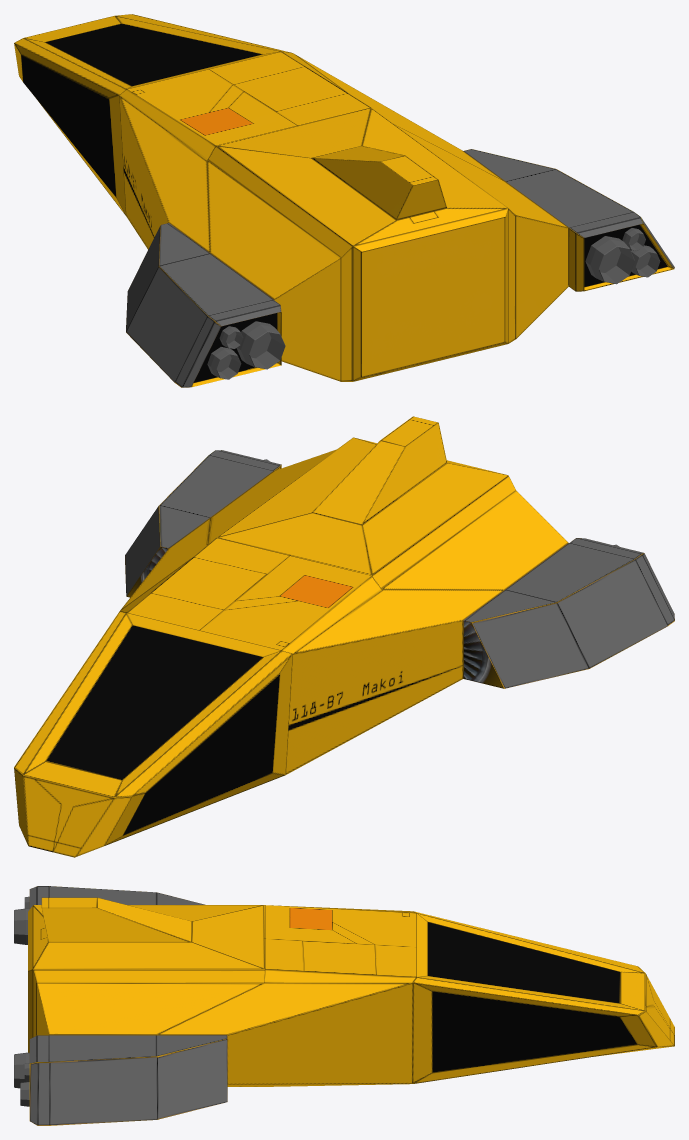
Rendered from makoi.glb.
3 views of the same model, one above another, from view 1: azimuth 30°, elevation 25°; view 2: azimuth 150°, elevation 25°; view 3: azimuth 270°, elevation 25° (orthographic). The views are drawn at different scales.
Visible parts, largest first — view 1: Spaceship, Thruster.005, Thruster, Thruster.001, Thruster.004; view 2: Spaceship; view 3: Spaceship, Thruster, Thruster.005.
Boxes of the visible parts, x1=… form: Spaceship: x1=14, y1=14, x2=674, y2=387; Thruster.005: x1=585, y1=236, x2=634, y2=284; Thruster: x1=236, y1=321, x2=285, y2=369; Thruster.001: x1=207, y1=347, x2=241, y2=379; Thruster.004: x1=631, y1=245, x2=660, y2=277; Spaceship: x1=14, y1=416, x2=674, y2=857; Spaceship: x1=28, y1=886, x2=674, y2=1125; Thruster: x1=14, y1=908, x2=29, y2=944; Thruster.005: x1=14, y1=1052, x2=29, y2=1088.
Size of the model in its own units: 0.6885 by 0.2354 by 0.9442.
2 materials, 1 textured.
